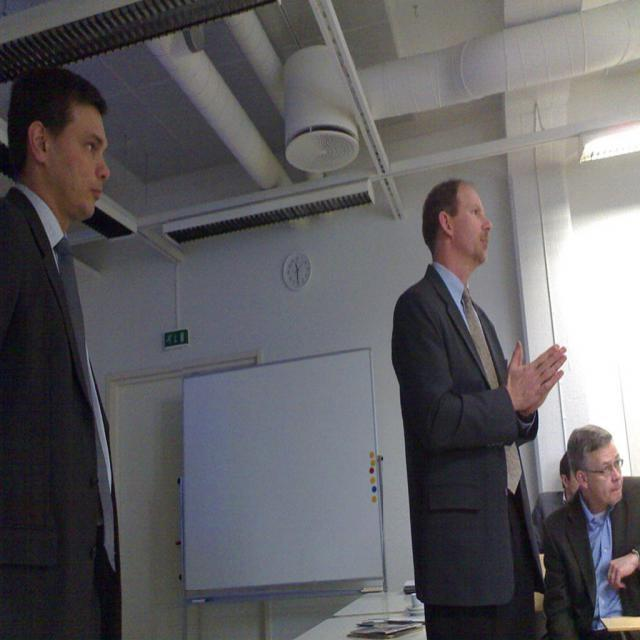Whiteboard: (179, 344, 385, 592)
